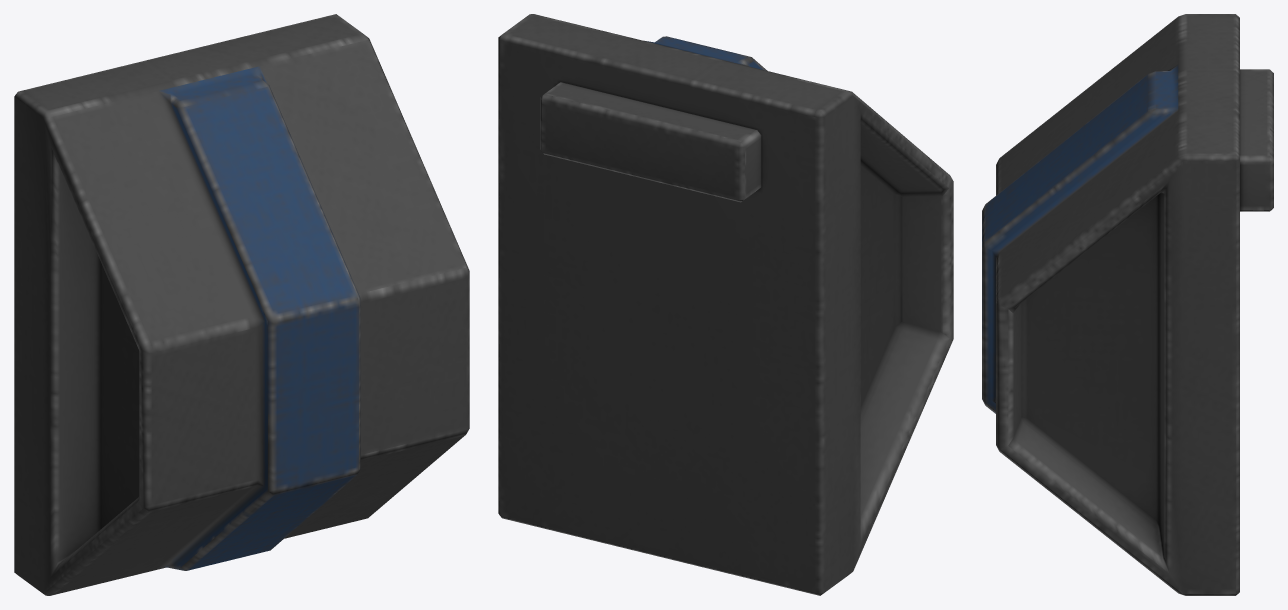
Rendered from SM_BomstickMagDrop.fbx.
3 views of the same model, side by side, from view 1: azimuth 30°, elevation 25°; view 2: azimuth 150°, elevation 25°; view 3: azimuth 270°, elevation 25° (orthographic). The views are drawn at different scales.
Parts seen in each view (by area): view 1: BatteryPhyDrop; view 2: BatteryPhyDrop; view 3: BatteryPhyDrop.
Part boxes in pixels (x1,y1,x2,y2): BatteryPhyDrop: [14, 14, 469, 595]; BatteryPhyDrop: [498, 14, 953, 595]; BatteryPhyDrop: [982, 14, 1273, 595].
Bounding box in the file's own units: 7.01 × 5.97 × 9.94.
